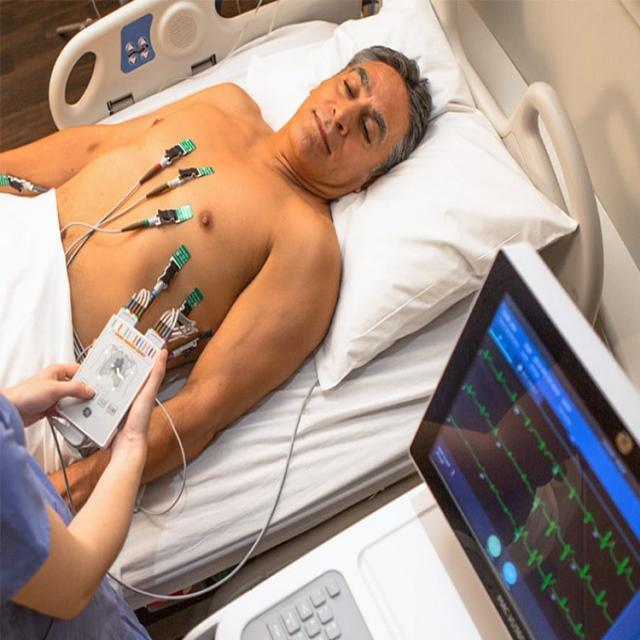Monitor: (402, 224, 640, 638)
bed: (1, 0, 605, 611)
